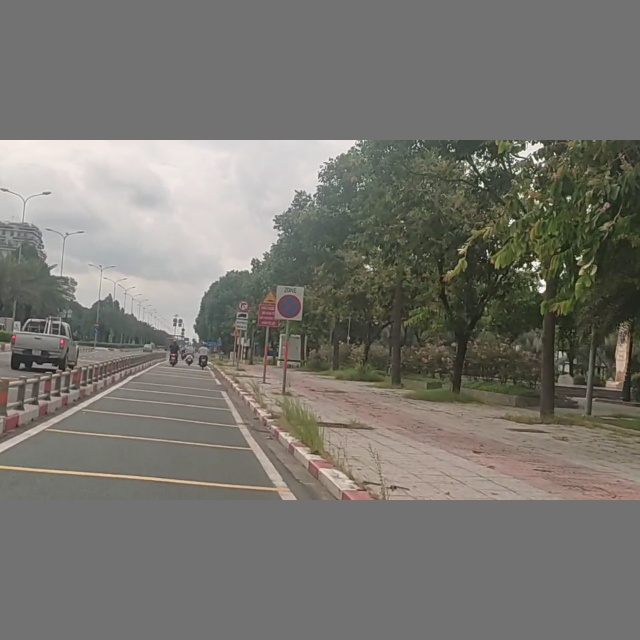P.123b: (237, 300, 250, 312)
P.130: (275, 285, 305, 321)
S.505a*Xe tai: (234, 311, 249, 332)
